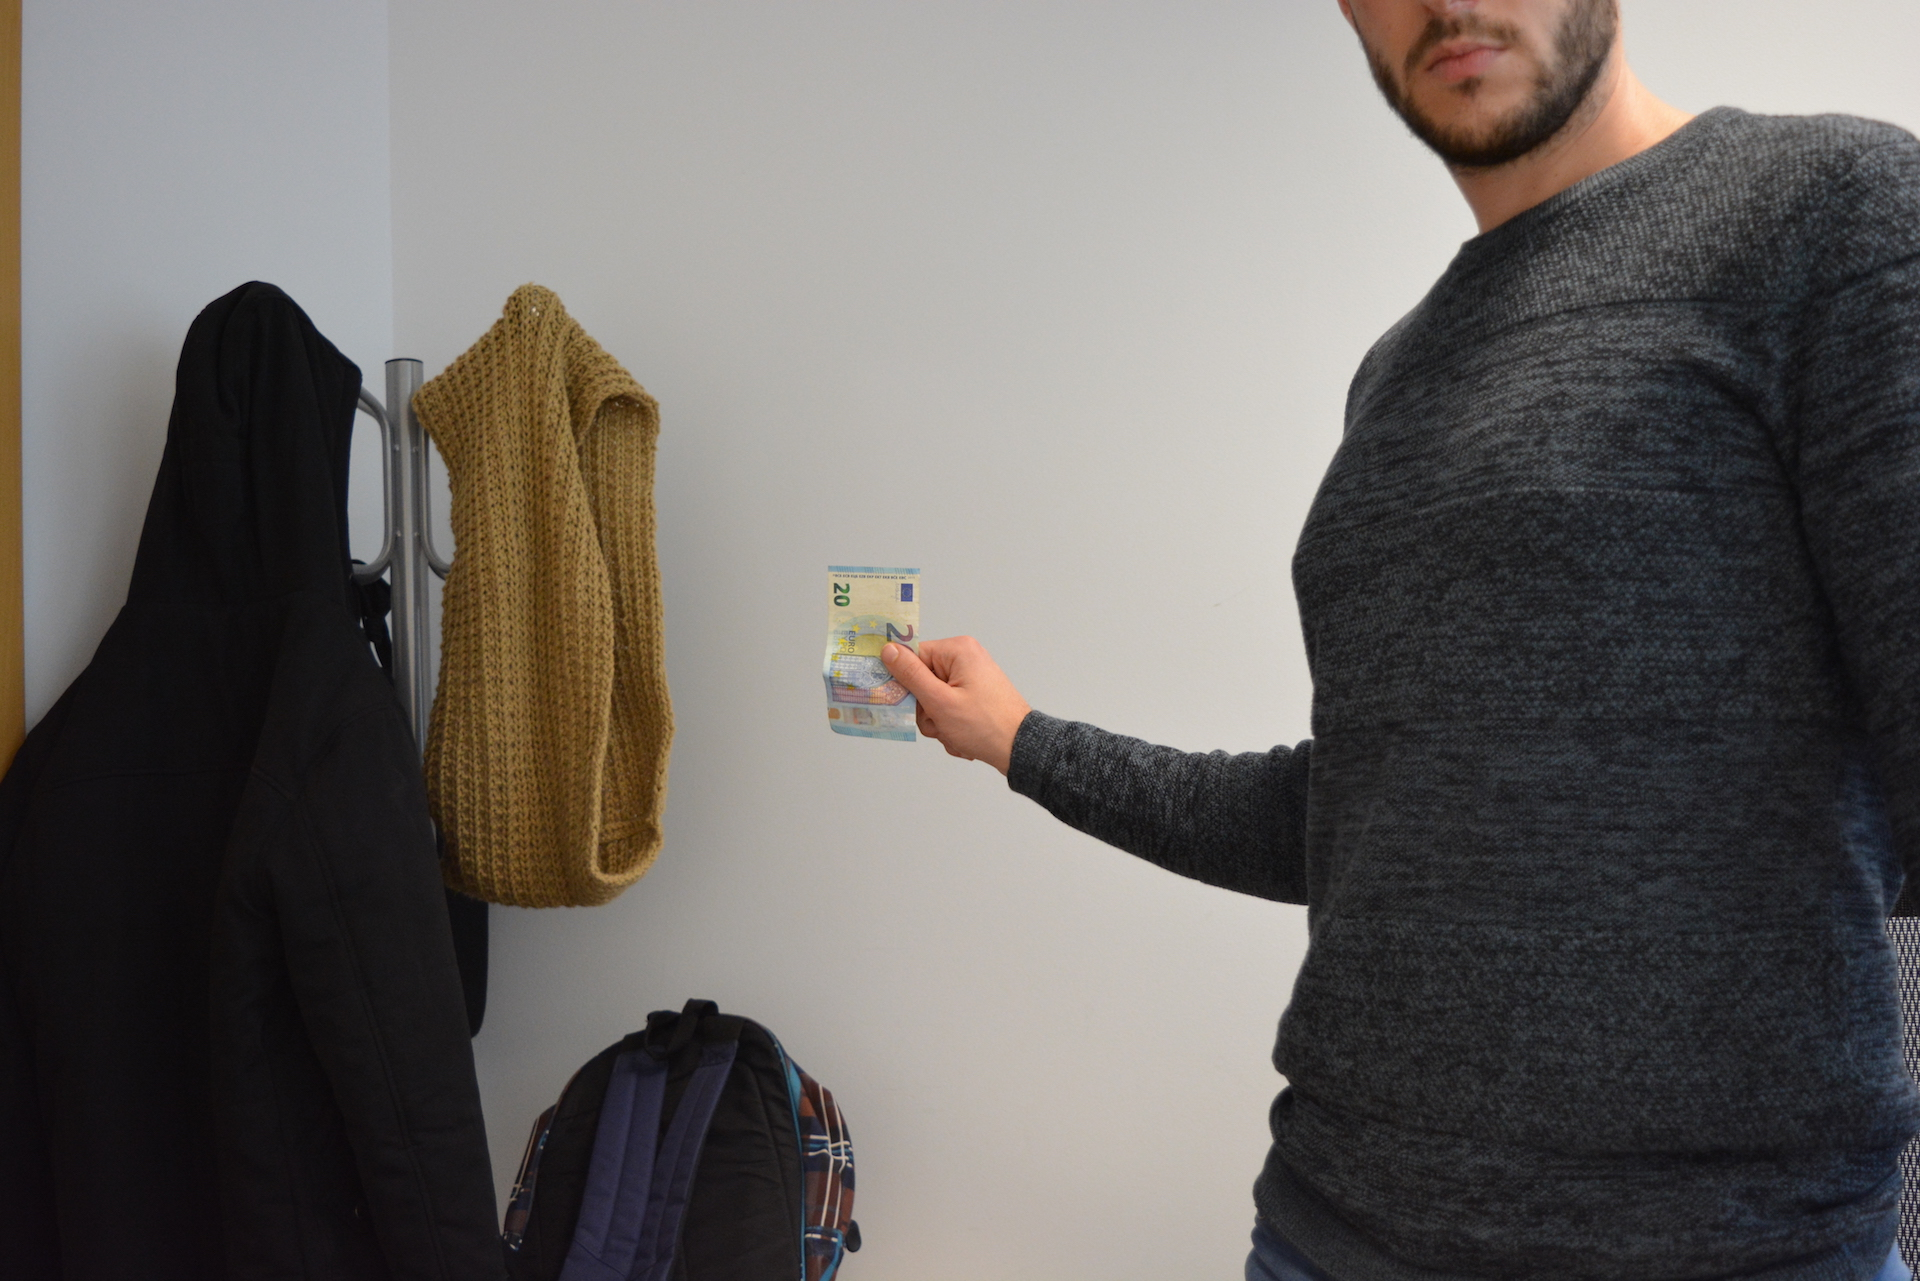billete: (821, 563, 922, 743)
